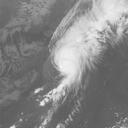cyclone: (50, 29, 96, 74)
